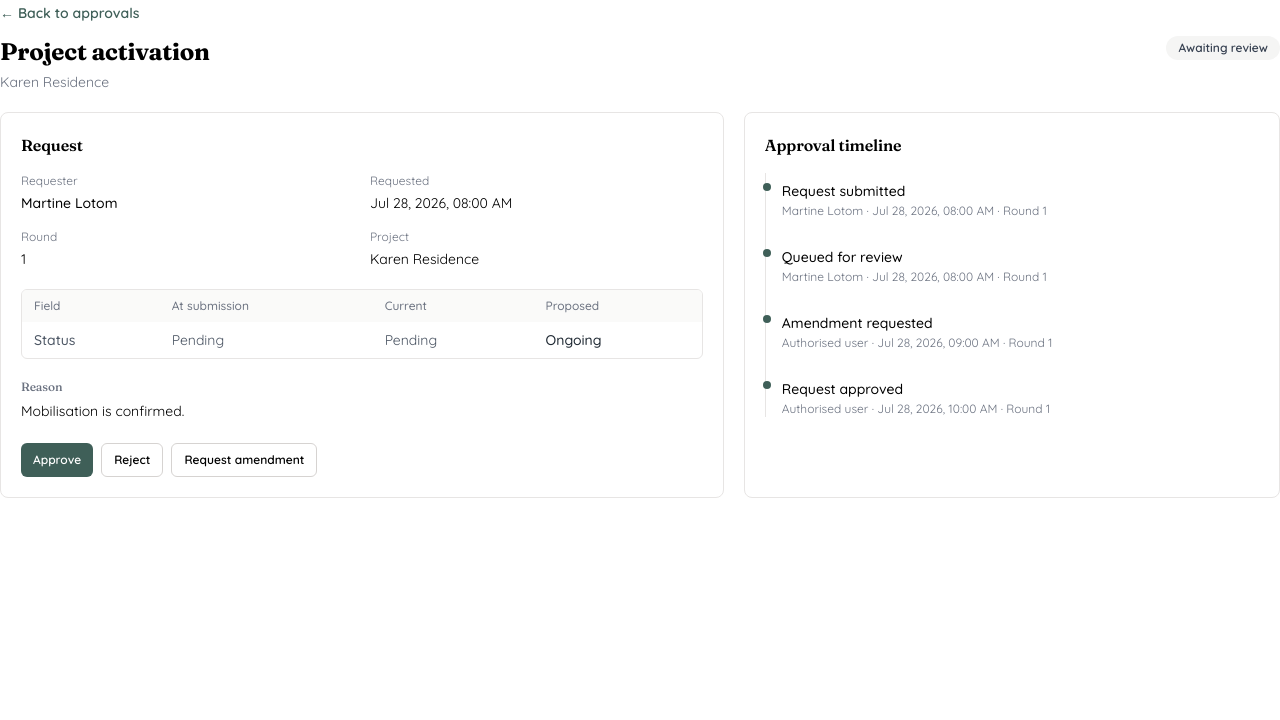
Scenario: Admin approval detail › handles Supabase error object without a false success state
Click the button "Approve" at (57, 460), box [21,443,93,477]
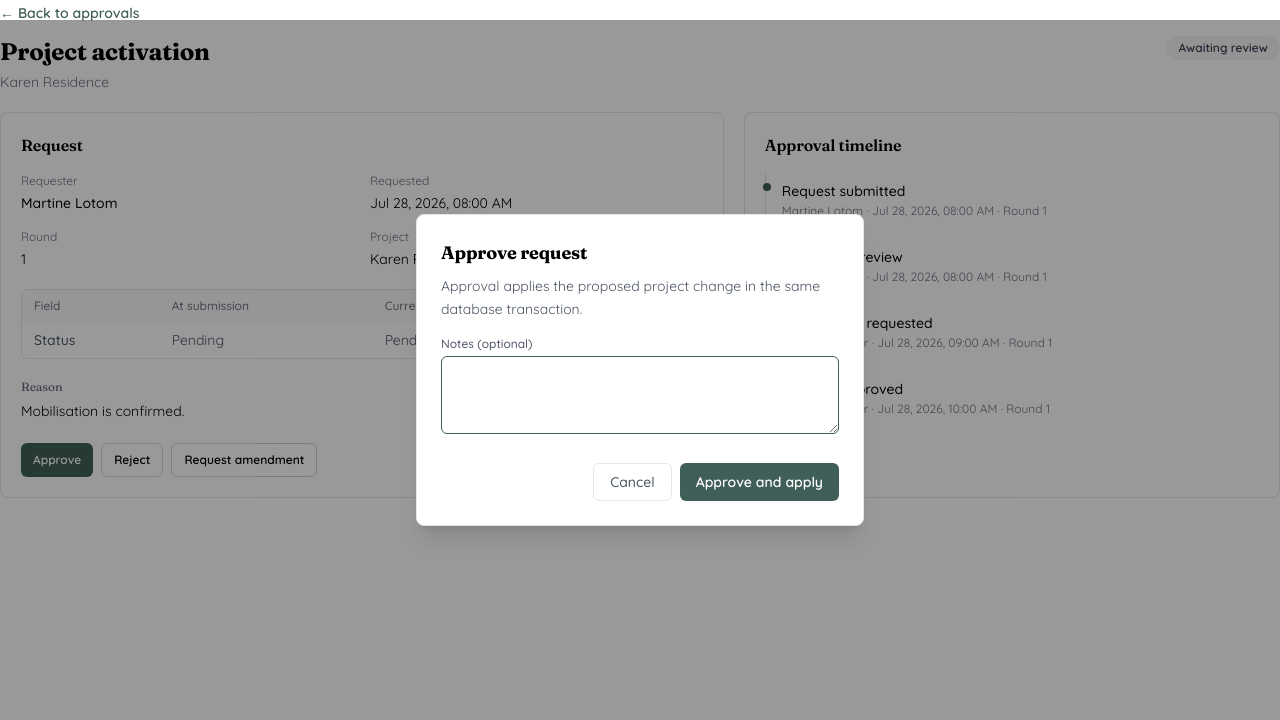
Click the button "Approve and apply" at (759, 482), box [680,463,839,501]
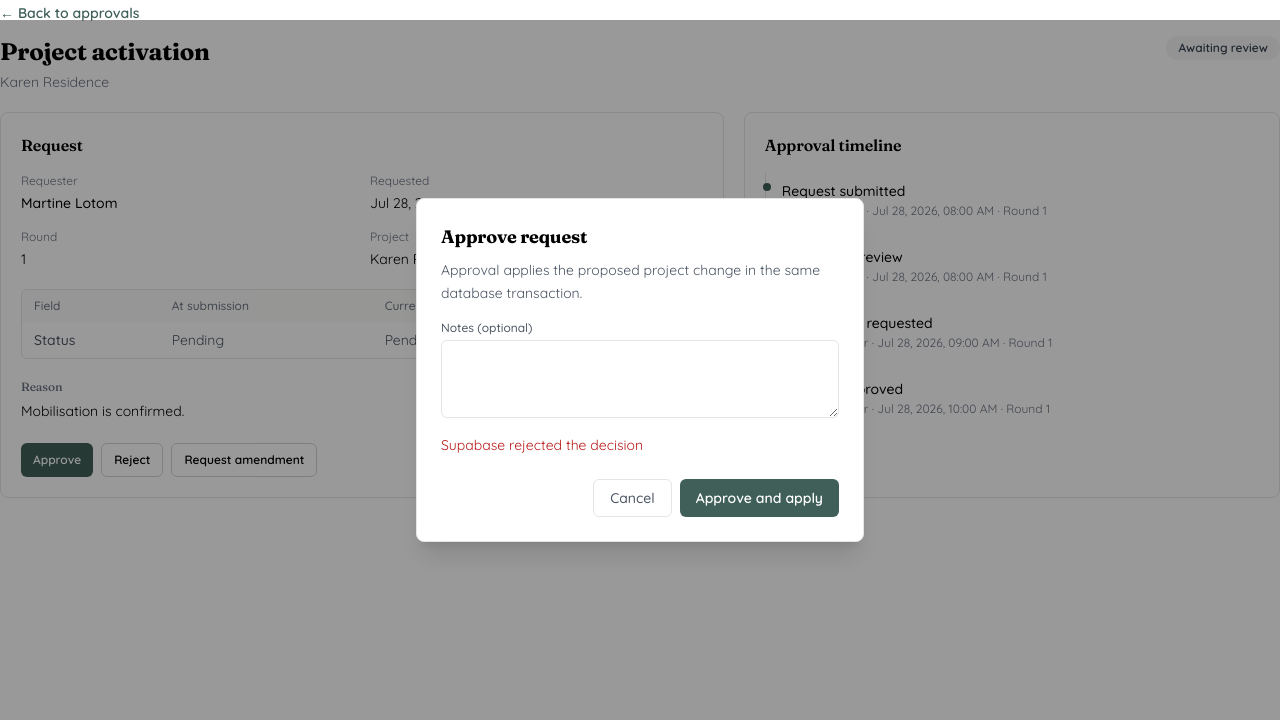
Now the dialog "Approve request" is shown, box [416,198,864,542]
Now the button "Approve and apply" is enabled, box [680,479,839,517]
Now the message reads "Supabase rejected the decision", box [441,436,643,454]
